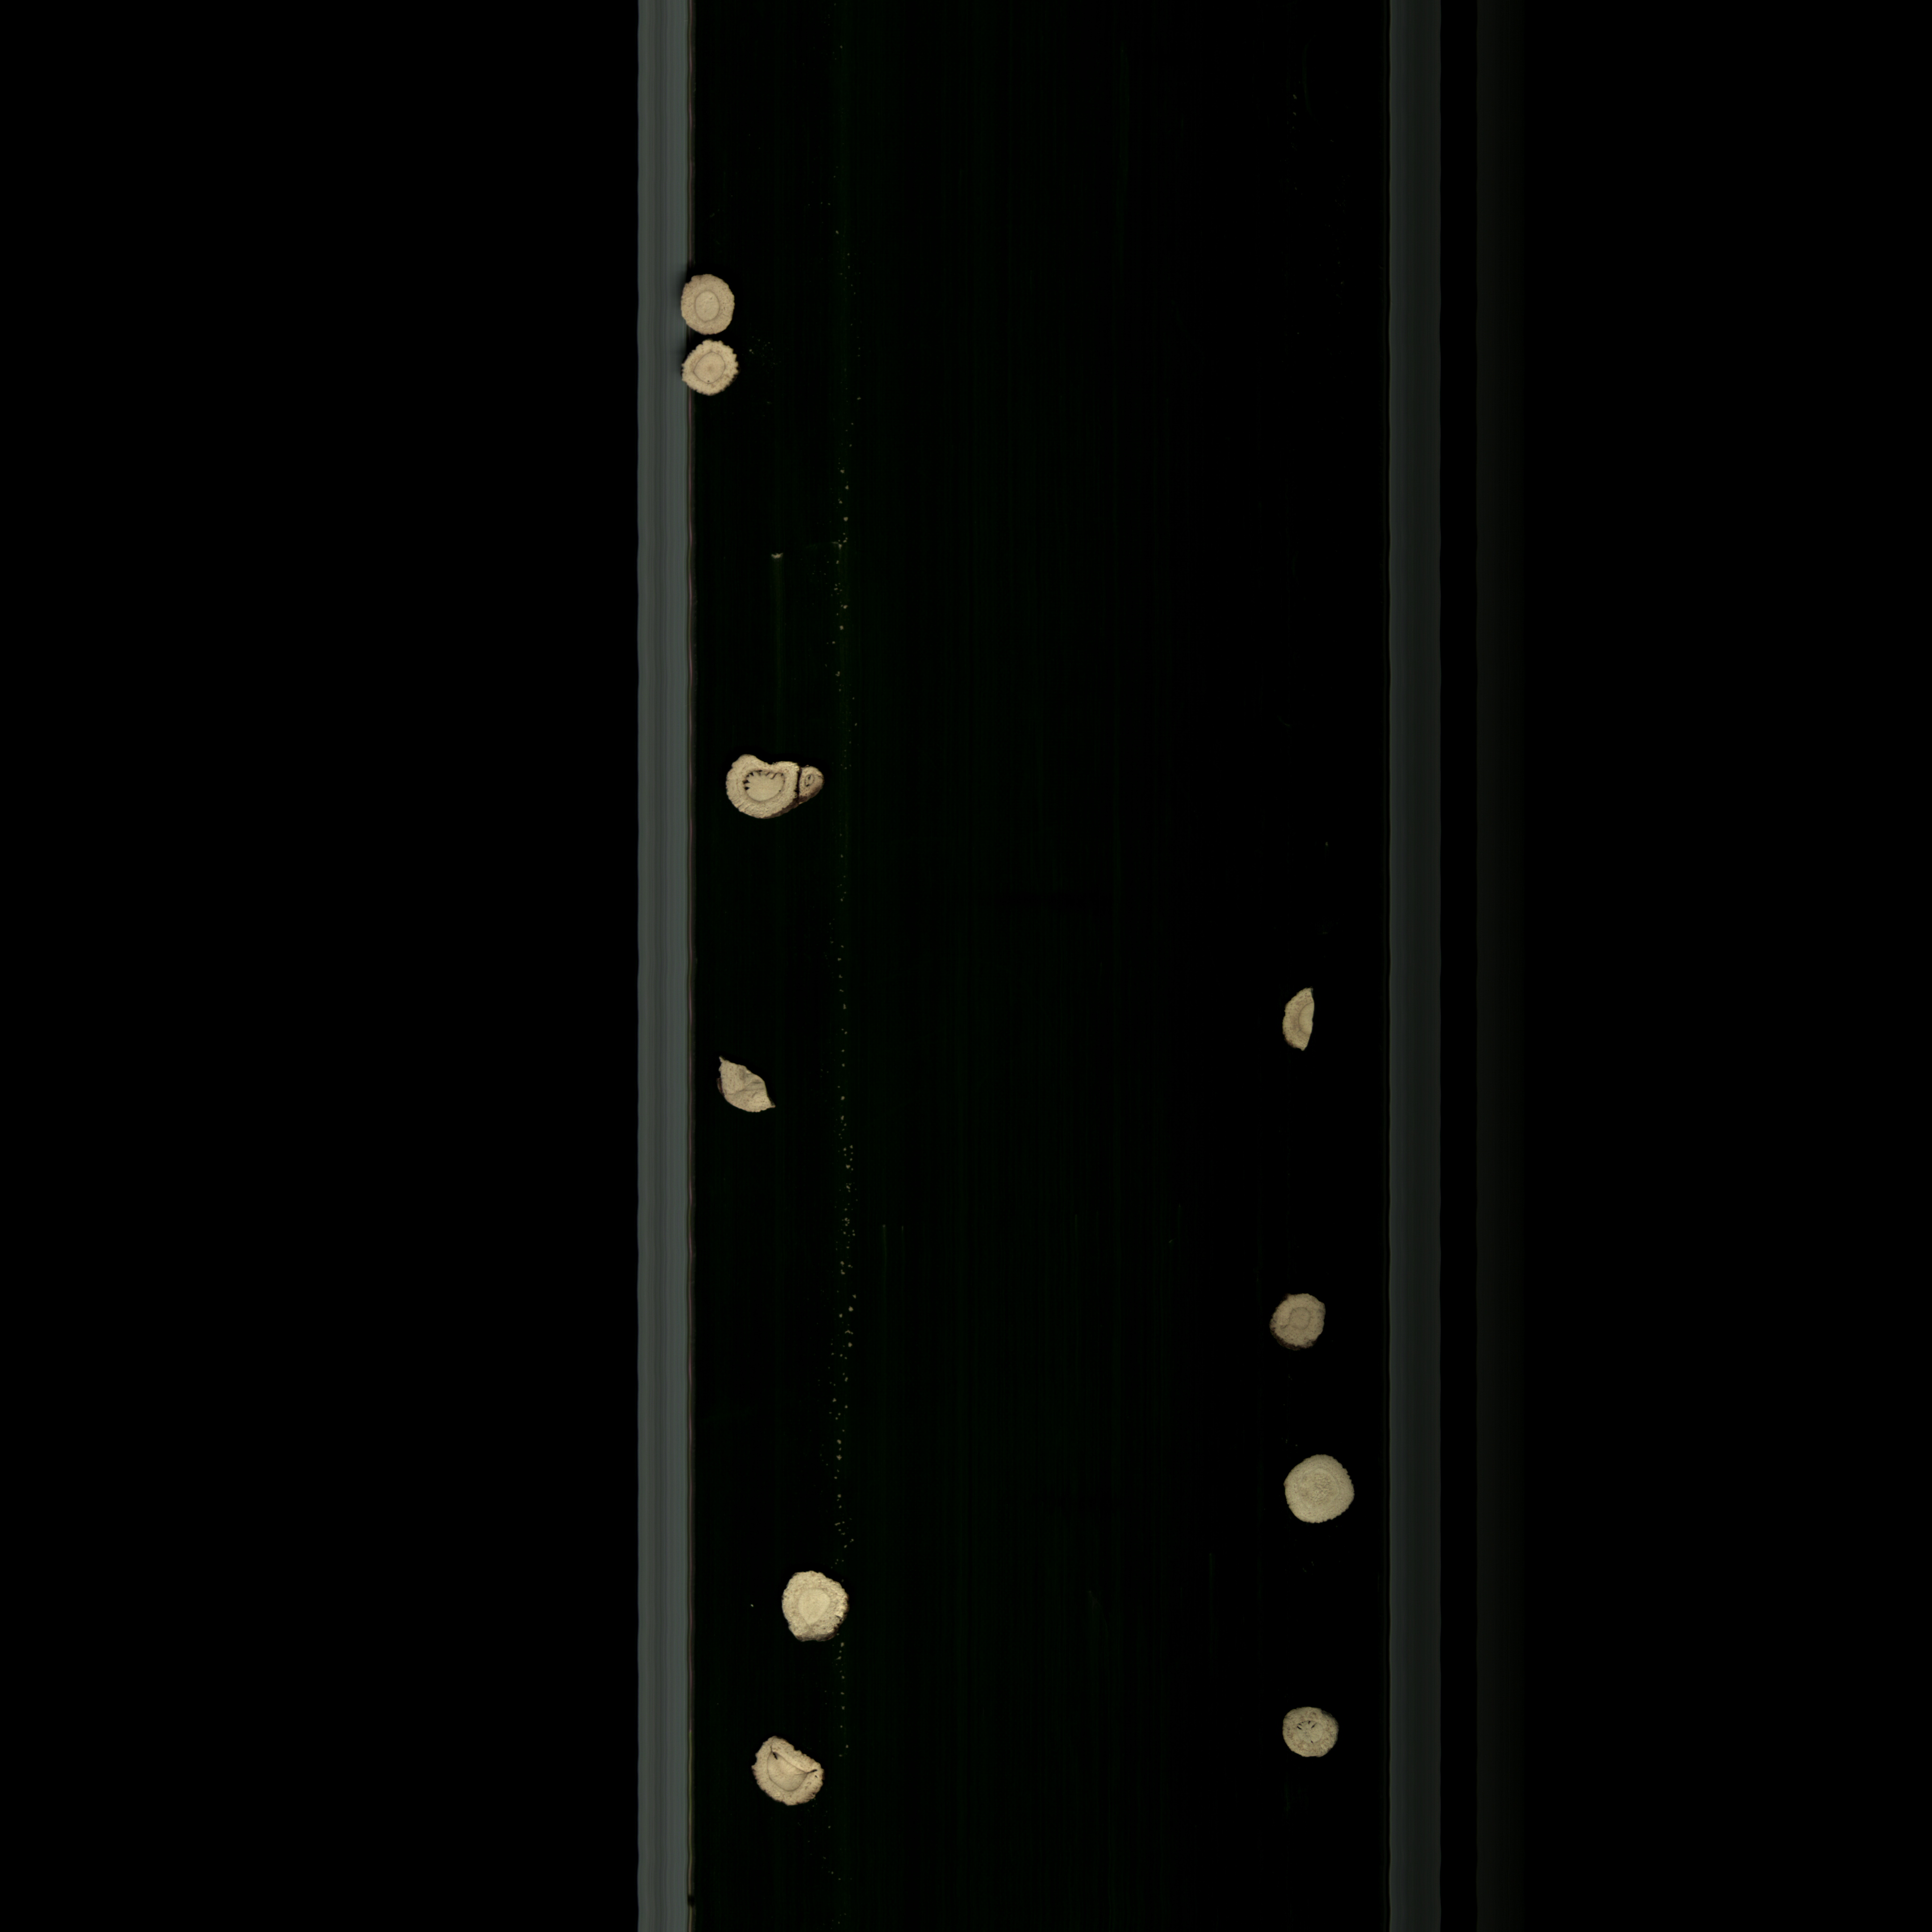debris: (697, 1044, 786, 1132)
distortion: (718, 738, 849, 835), (674, 331, 748, 410)
dreg: (1270, 975, 1330, 1067)
hole: (745, 1727, 844, 1815), (1270, 1693, 1359, 1776)
moldy: (1254, 1283, 1343, 1361)
